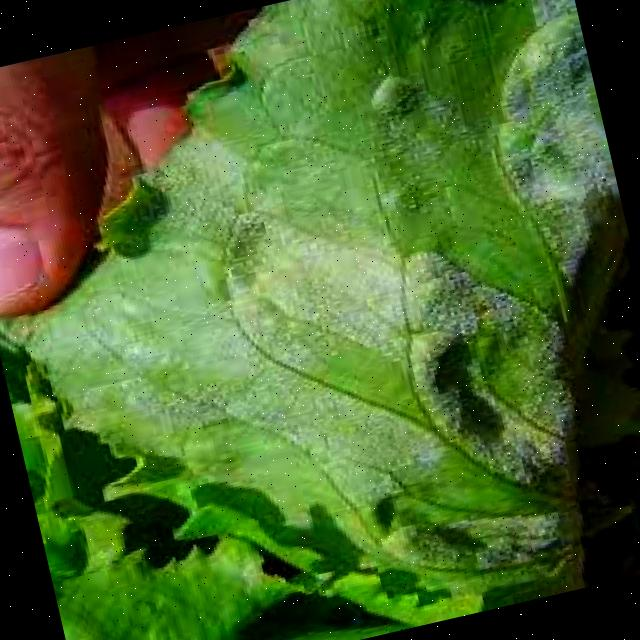Downy_mildew_on_lettuce: (173, 88, 600, 621)
